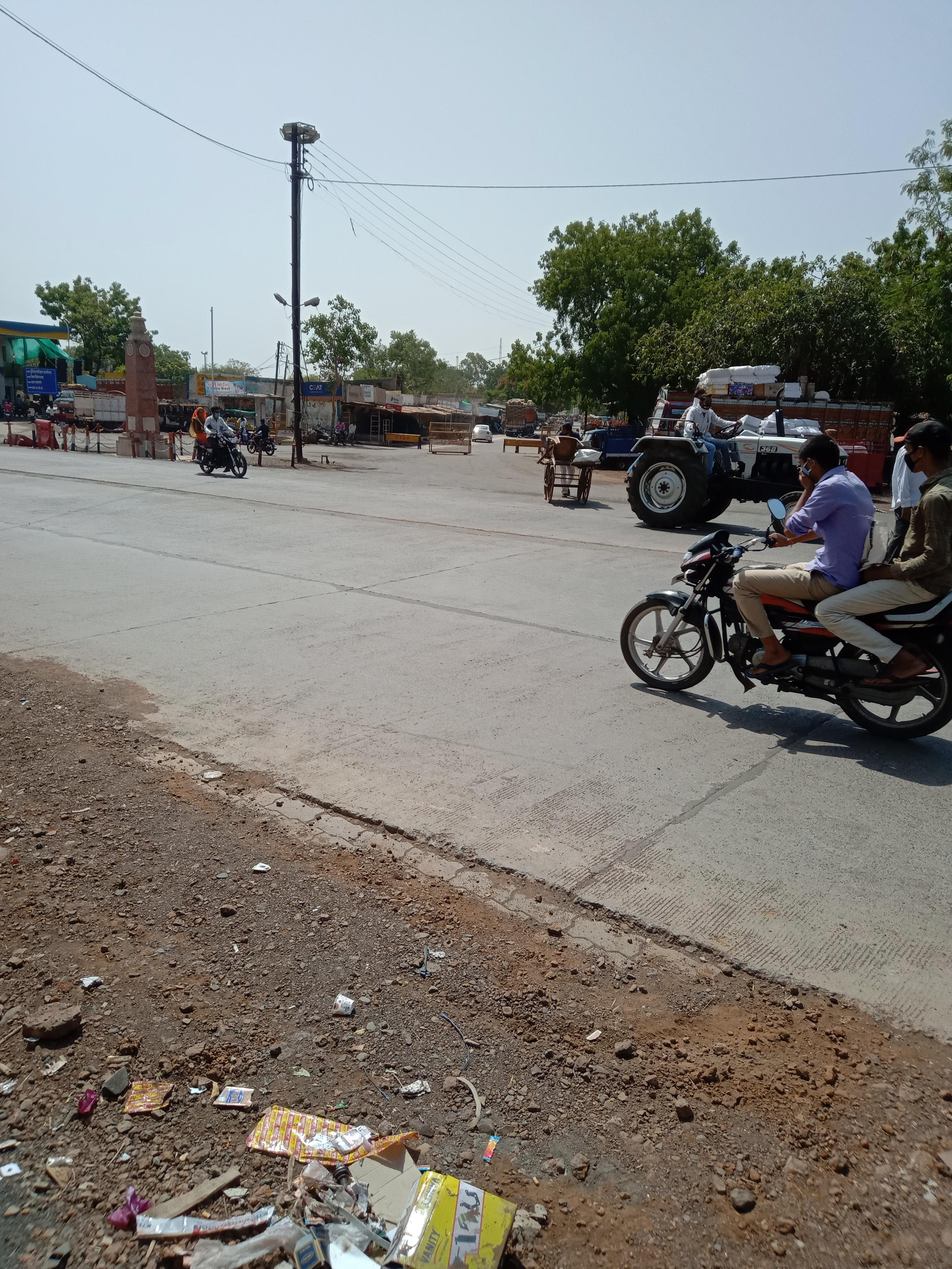non-ambulance: (543, 315, 952, 528)
